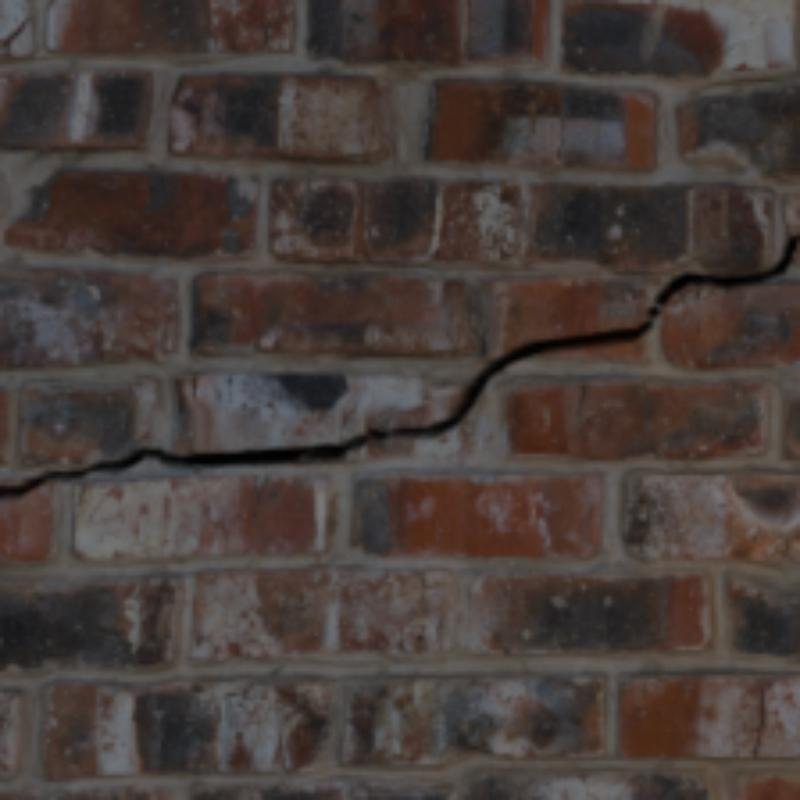crack: (0, 236, 796, 497), (754, 679, 782, 757), (4, 18, 32, 43)
